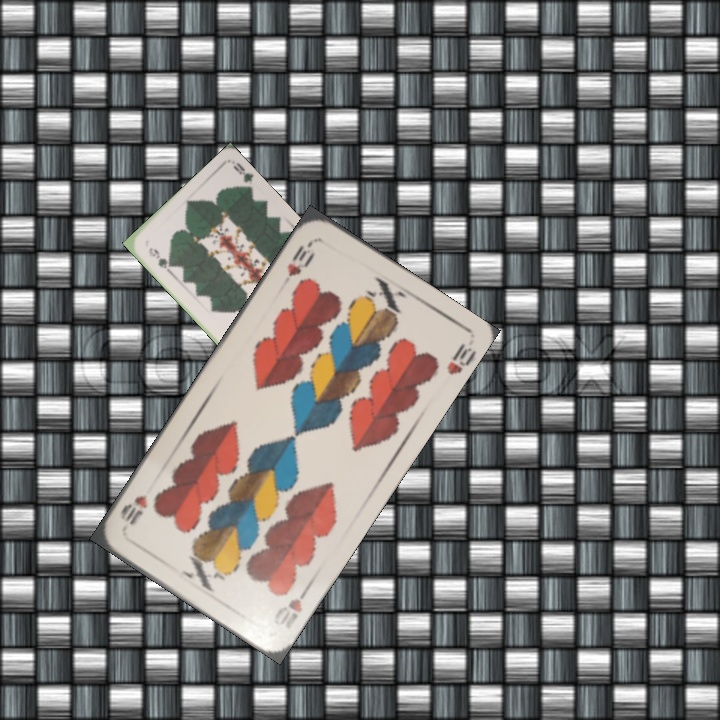G9: (145, 243, 175, 271)
H10: (269, 581, 313, 632), (283, 236, 318, 280)
